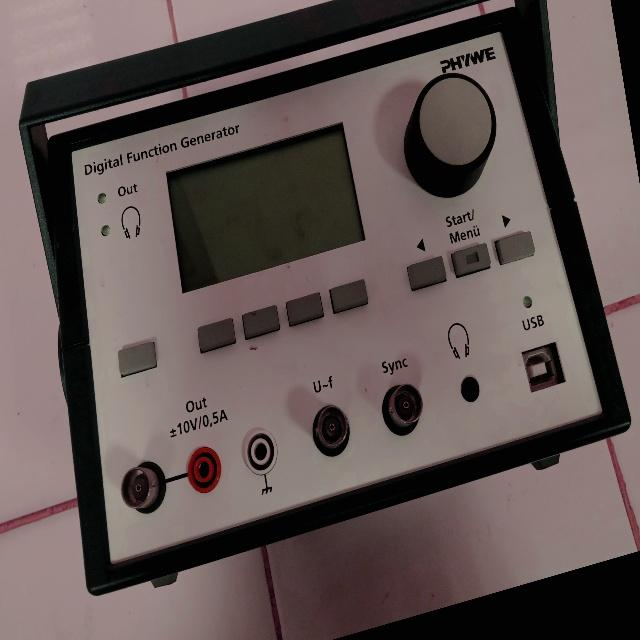Digital Function Generator: (0, 0, 640, 638)
